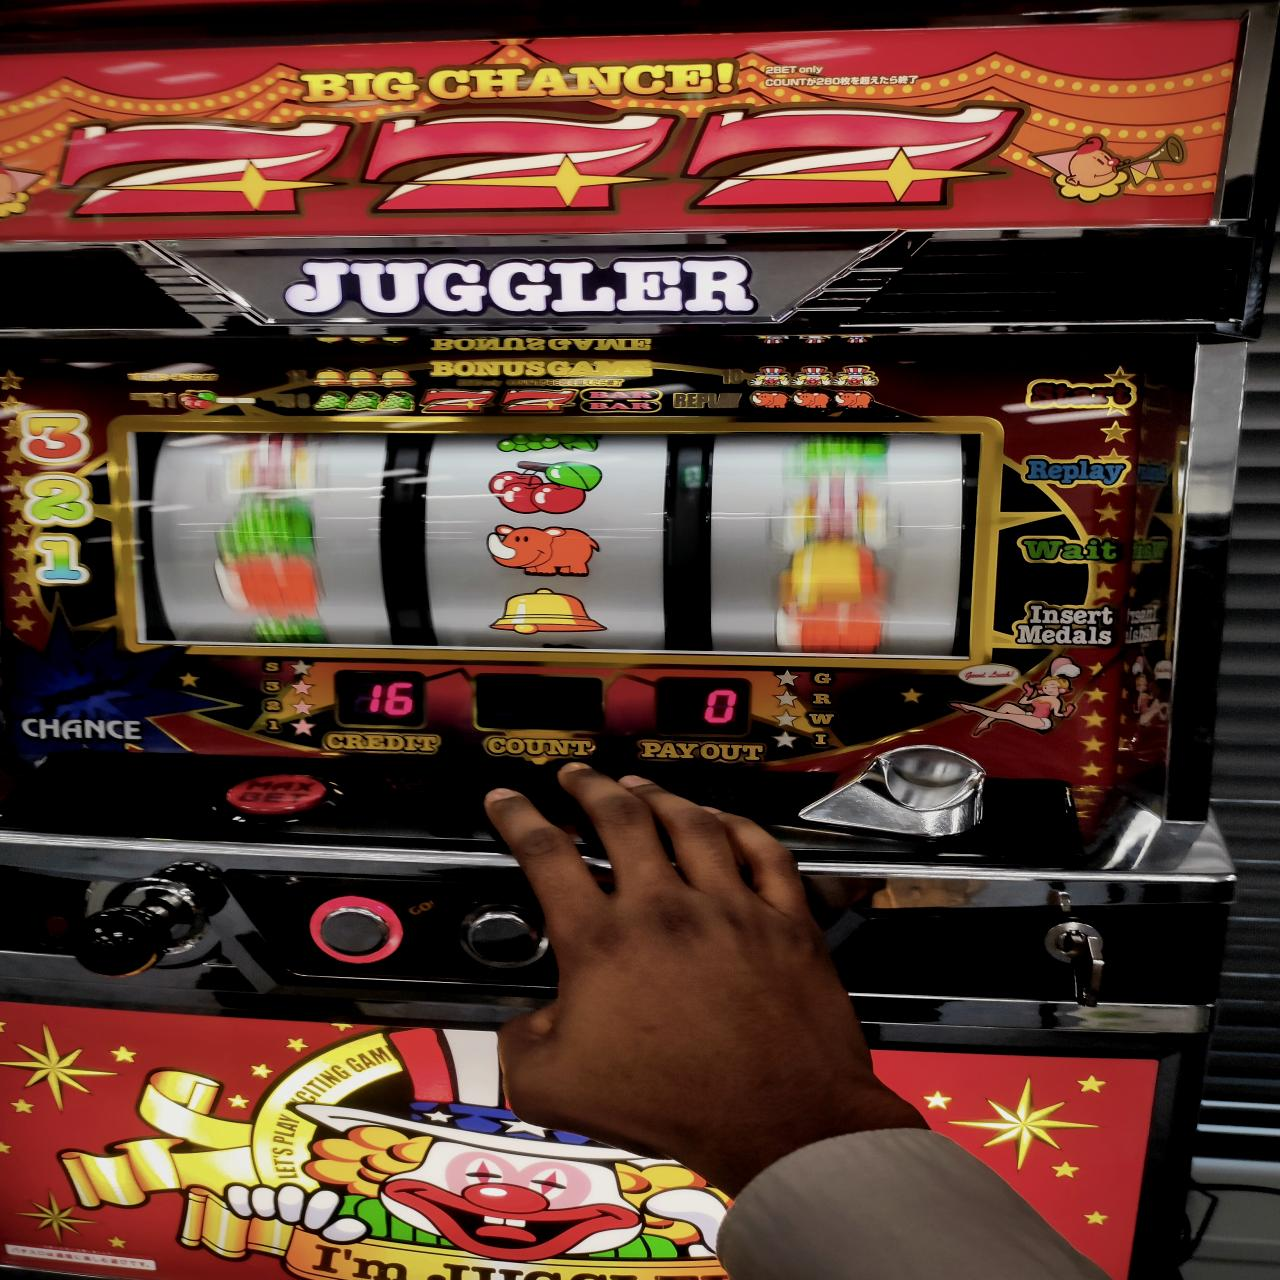8: (488, 526, 604, 577)
bell: (489, 586, 612, 635)
cherry: (484, 458, 605, 515)
rhino: (117, 422, 979, 659)
